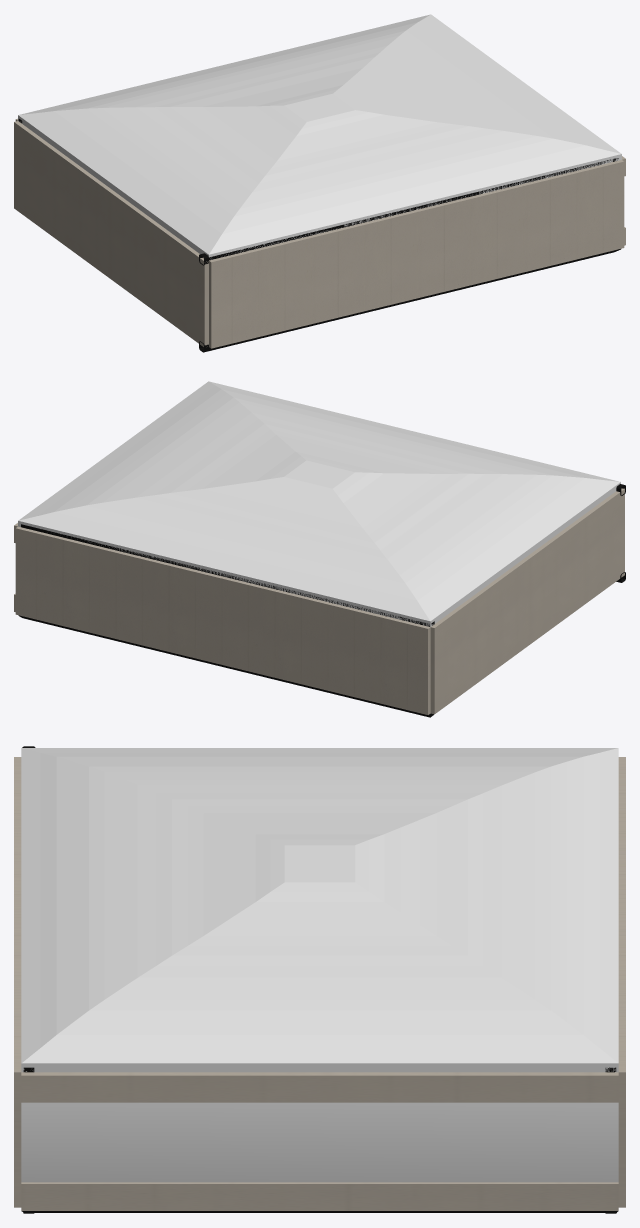
Rendered from lab  not join  2.0.fbx.
The picture shows the model from 3 angles, top to bottom: view 1: azimuth 30°, elevation 25°; view 2: azimuth 150°, elevation 25°; view 3: azimuth 270°, elevation 25°; orthographic projection. The views are drawn at different scales.
Visible parts, largest first — view 1: teto, paredes lados, parede fundo, chanfros; view 2: teto, paredes lados, parede fundo, chanfros; view 3: teto, janela, paredes frente, paredes lados, chanfros.
Part boxes in pixels (bbox=[...]): teto: bbox=[18, 14, 621, 259]; paredes lados: bbox=[15, 118, 624, 348]; parede fundo: bbox=[14, 121, 208, 346]; chanfros: bbox=[18, 119, 620, 352]; teto: bbox=[18, 381, 620, 626]; paredes lados: bbox=[15, 526, 430, 714]; parede fundo: bbox=[430, 488, 624, 714]; chanfros: bbox=[18, 484, 625, 717]; teto: bbox=[21, 748, 618, 1072]; janela: bbox=[21, 1102, 618, 1182]; paredes frente: bbox=[21, 1072, 618, 1210]; paredes lados: bbox=[14, 757, 625, 1207]; chanfros: bbox=[21, 746, 618, 1213].
Bounding box in the file's own units: 10221 × 2867 × 8200.
